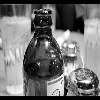beer: (23, 5, 73, 100)
